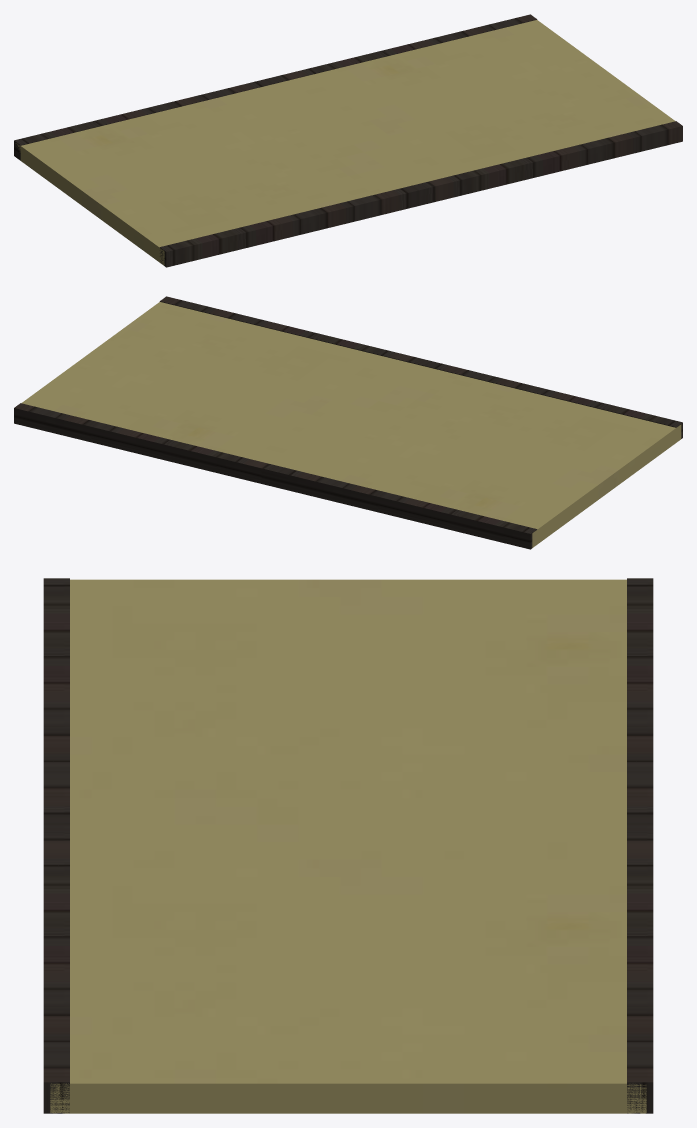
Rendered from tatami_mat_01.glb.
3 views of the same model, one above another, from view 1: azimuth 30°, elevation 25°; view 2: azimuth 150°, elevation 25°; view 3: azimuth 270°, elevation 25° (orthographic). The views are drawn at different scales.
Parts seen in each view (by area): view 1: tatami_mat_01; view 2: tatami_mat_01; view 3: tatami_mat_01.
Part boxes in pixels (x1,y1,x2,y2): tatami_mat_01: (14, 14, 682, 267); tatami_mat_01: (14, 296, 682, 549); tatami_mat_01: (43, 578, 653, 1113).
Bounding box in the file's own units: 1.8 × 0.052 × 0.92.
2 materials, 2 textured.
